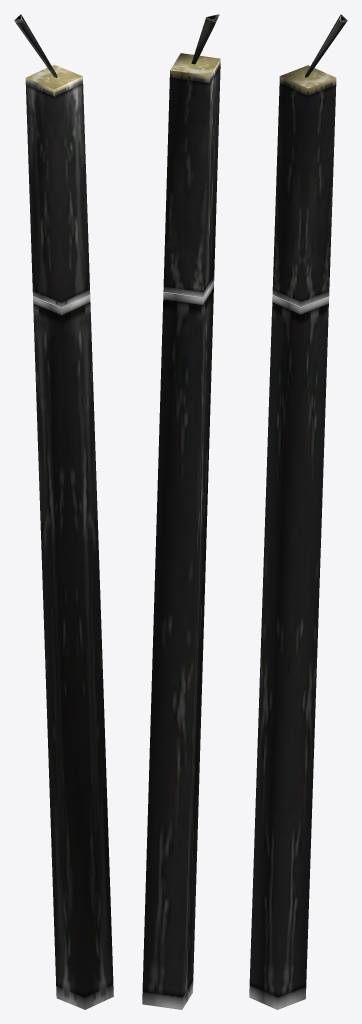
File: eqp_music_fizz_l2.fbx
3 views of the same model, side by side, from view 1: azimuth 90°, elevation 25°; view 2: azimuth 210°, elevation 25°; view 3: azimuth 270°, elevation 25° (orthographic). The views are drawn at different scales.
Parts seen in each view (by area): view 1: mesh_node; view 2: mesh_node; view 3: mesh_node.
Boxes of the visible parts, <box> form: mesh_node: <box>14,14,113,1009</box>; mesh_node: <box>142,14,220,1009</box>; mesh_node: <box>249,14,347,1009</box>.
Bounding box in the file's own units: 0.0409 × 0.6245 × 0.0572.
